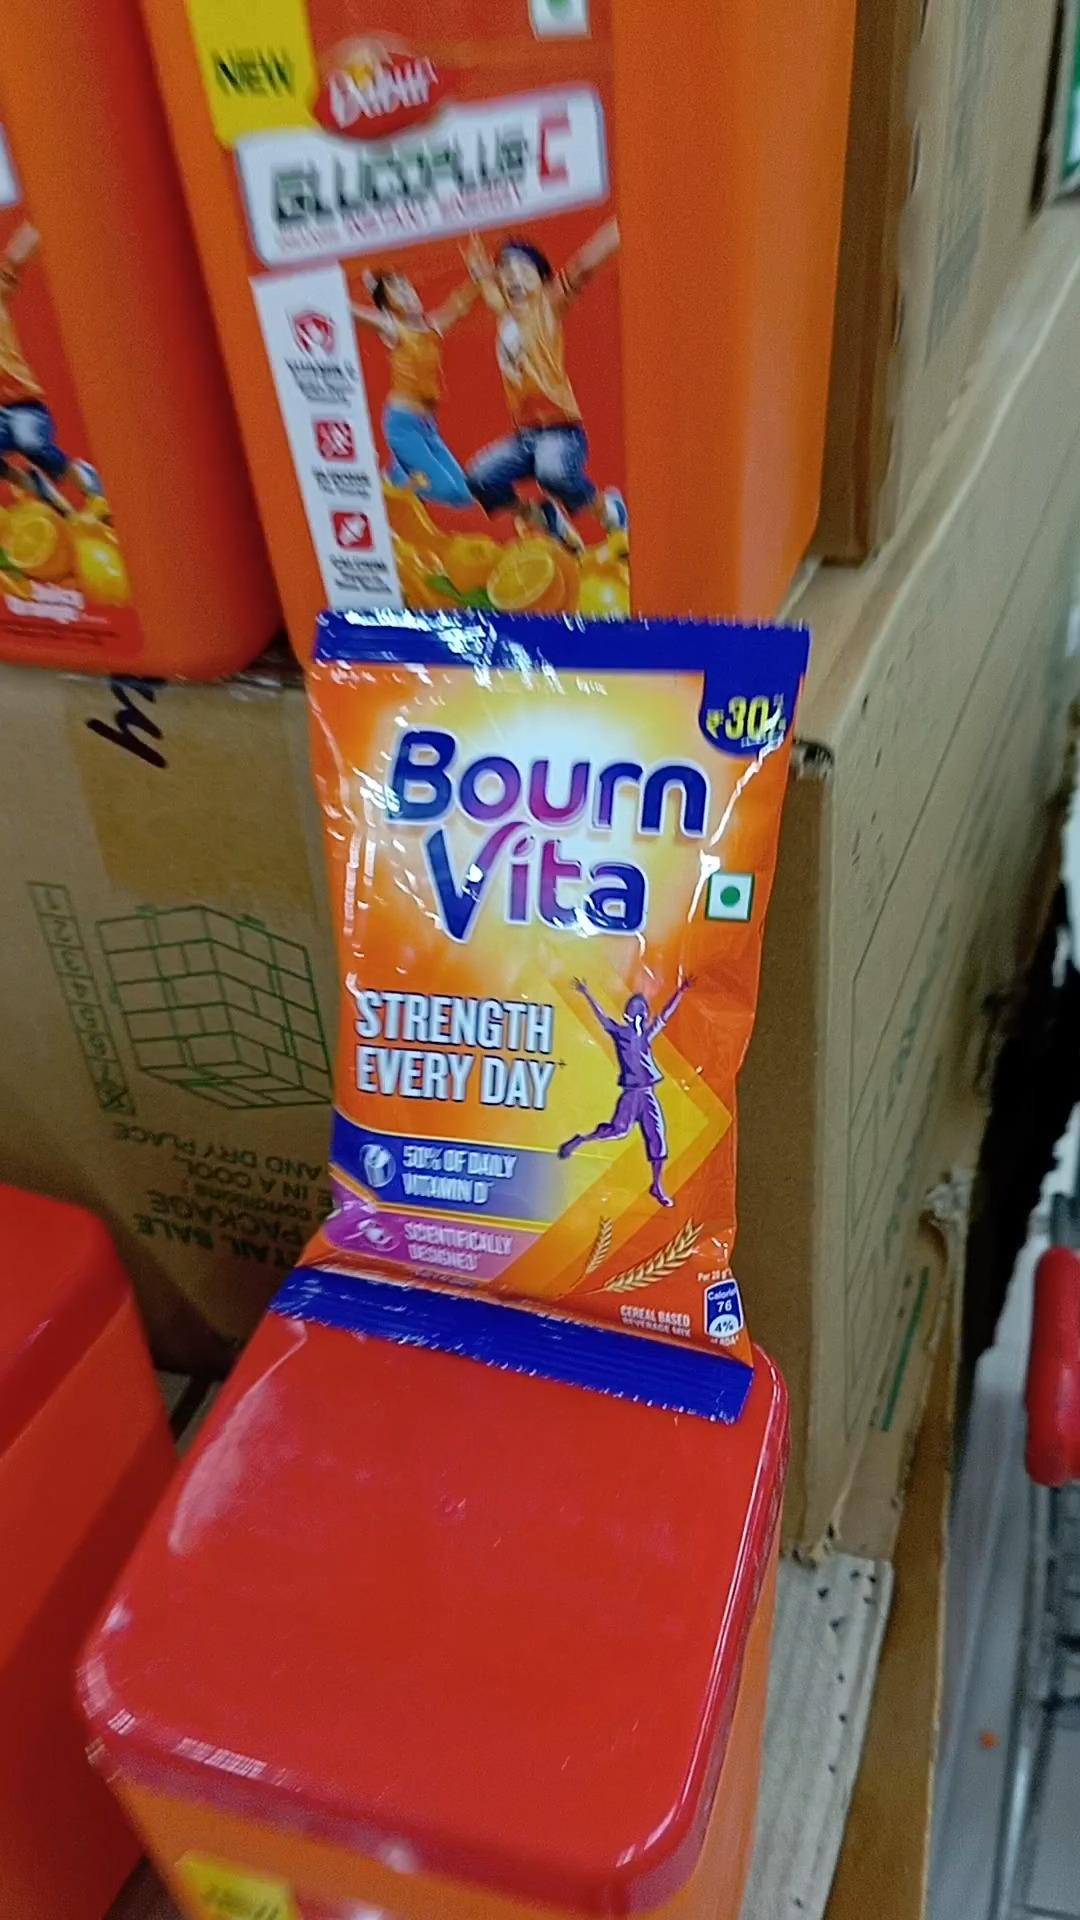BOURN_VITA_75_G_POUCH: (306, 601, 748, 1391)
